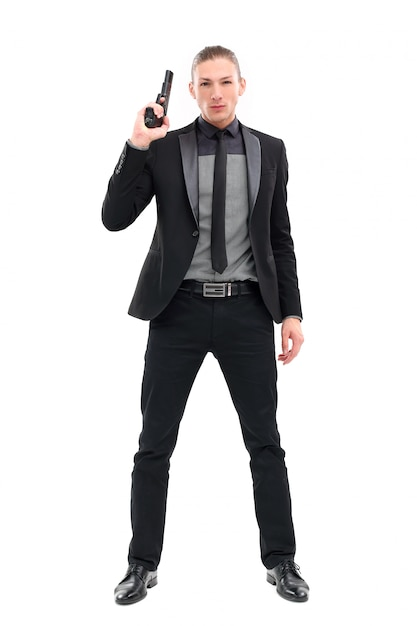gun: (143, 69, 175, 129)
